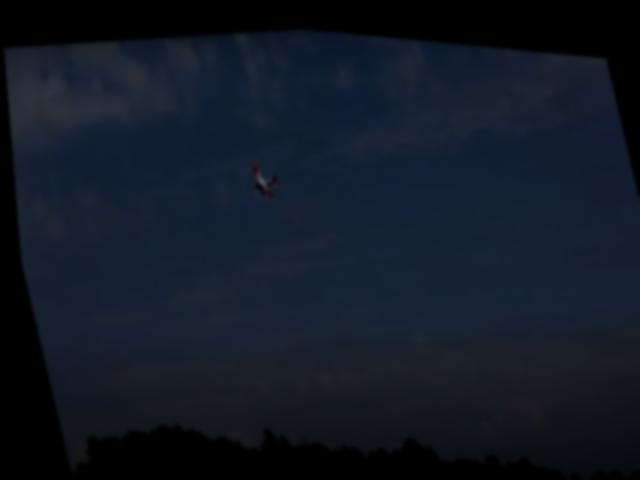uav: (240, 150, 285, 201)
